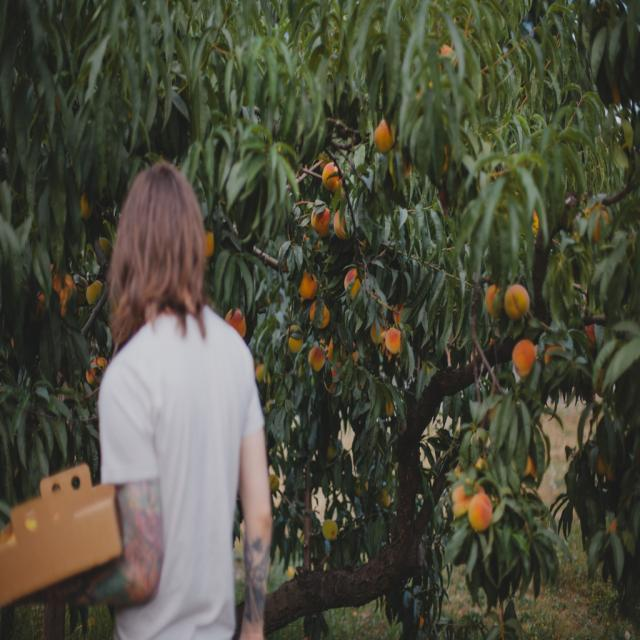Orange: (370, 116, 400, 156), (510, 336, 539, 372), (470, 489, 490, 536), (319, 164, 345, 196), (590, 204, 610, 244), (222, 303, 247, 334), (506, 284, 531, 315), (309, 296, 330, 329), (581, 318, 599, 356), (311, 197, 327, 231), (331, 211, 351, 238), (456, 480, 470, 518), (544, 341, 560, 373), (308, 347, 323, 377), (289, 322, 303, 351), (316, 337, 333, 359), (203, 227, 213, 263), (485, 288, 495, 322), (301, 273, 319, 291)
